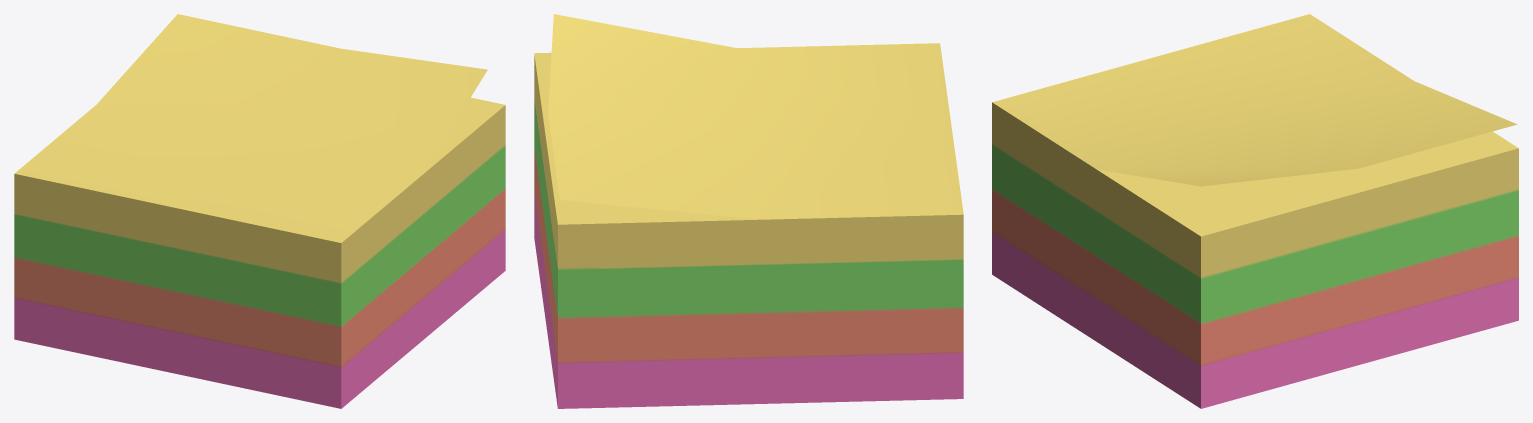
Rendered from Sticky Note Stack.fbx.
3 views of the same model, side by side, from view 1: azimuth 30°, elevation 25°; view 2: azimuth 150°, elevation 25°; view 3: azimuth 270°, elevation 25° (orthographic). The views are drawn at different scales.
Parts seen in each view (by area): view 1: polySurface50, polySurface51; view 2: polySurface50, polySurface51; view 3: polySurface50, polySurface51.
Part boxes in pixels (x1,y1,x2,y2): polySurface50: (14,97,505,408); polySurface51: (14,14,487,242); polySurface50: (534,52,963,408); polySurface51: (548,14,963,219); polySurface50: (992,102,1518,408); polySurface51: (992,14,1517,186).
Size of the model in its own units: 2.77 by 1.24 by 2.77.
